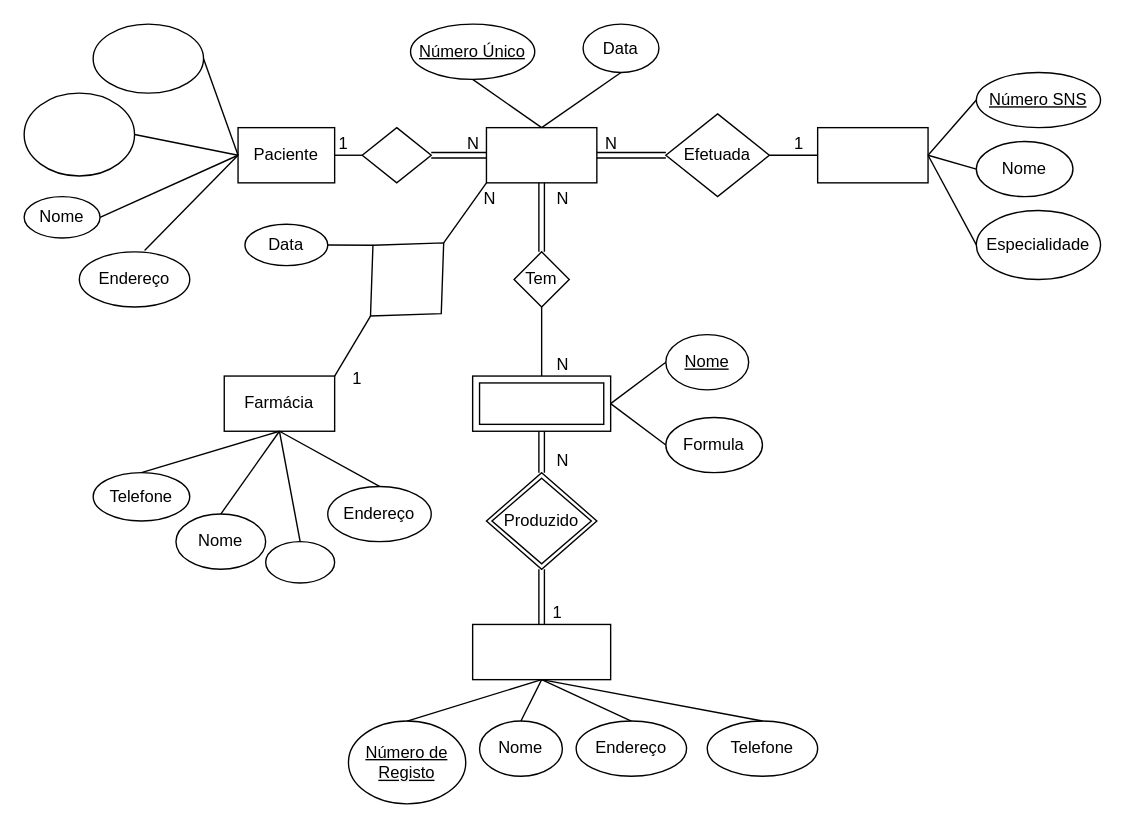
Some shapes in this 1125 by 828 pixel diagram are drawn without their labels. The centre of each missing label's shape, as x and y in pixels:
"Data de Nascimento" belongs at point (79, 134).
"Farmacêutica" belongs at point (541, 651).
"Fármaco" belongs at point (541, 403).
"Médico" belongs at point (872, 154).
"NIF" belongs at point (299, 561).
"Número de Utente" belongs at point (148, 58).
"Para" belongs at point (396, 154).
"Prescrição" belongs at point (541, 154).
"Processada" belongs at point (406, 278).
